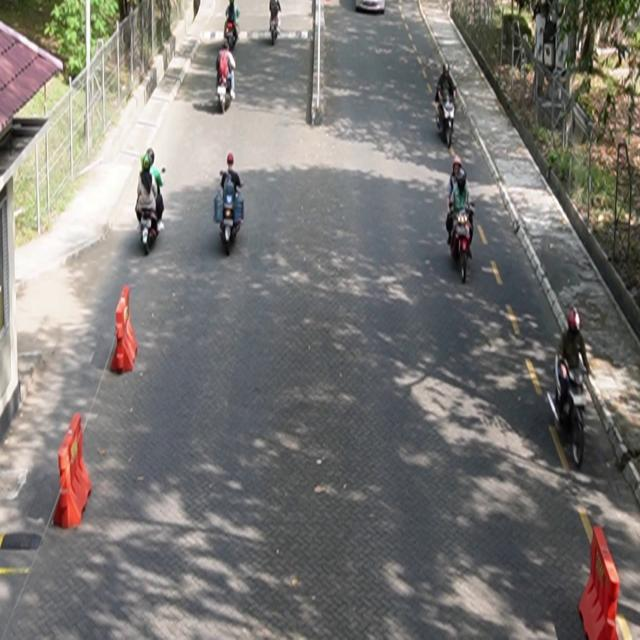car: (356, 1, 386, 14)
